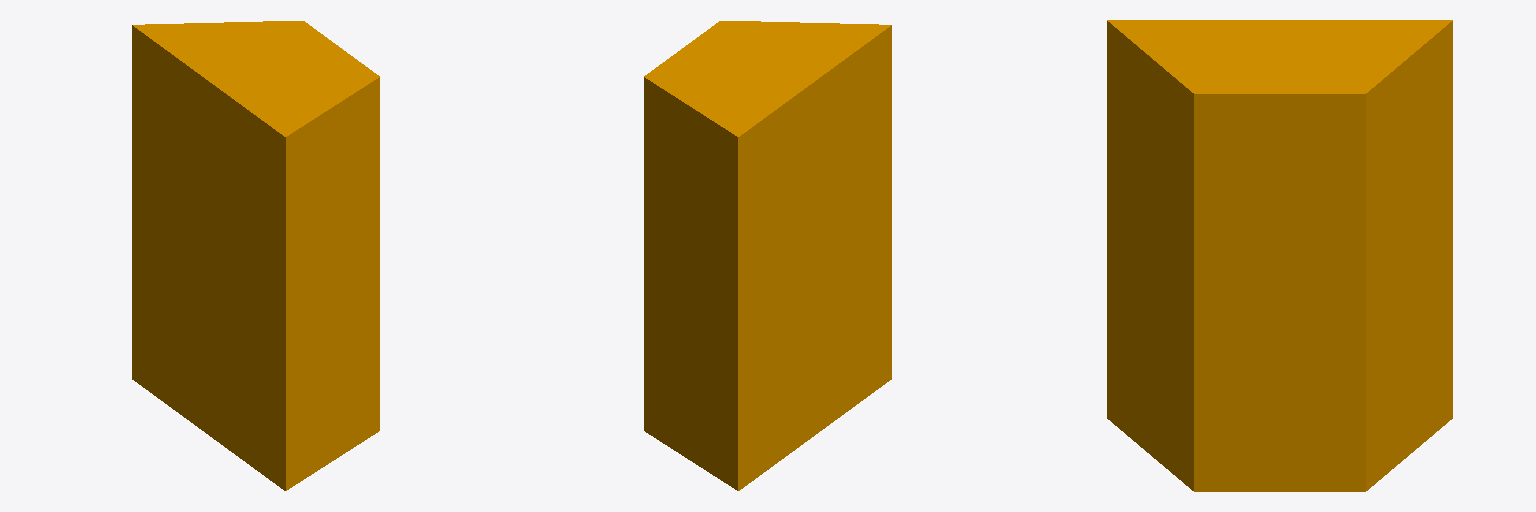
The robot description file, URDF, robot "trapez_peg":
<?xml version="1.0"?>
<robot name="trapez_peg">
    <link name="trapez_peg">
        <visual>
            <!--origin xyz="0 0 0.01905" rpy="0 1.57079632679 0"-->
            <geometry>
                <mesh filename="../mesh/factory_insertion/trapez_peg.obj"/>
            </geometry>
        </visual>
        <collision>
            <!--origin xyz="0 0 0.01905" rpy="0 1.57079632679 0"-->
            <geometry>
                <mesh filename="../mesh/factory_insertion/trapez_peg.obj"/>
            </geometry>
        </collision>
    </link>
</robot>

--- What the picture shows (computed from the rendered views, not written in the file) ---
The picture shows the robot from 3 angles, left to right: view 1: azimuth 30°, elevation 25°; view 2: azimuth 150°, elevation 25°; view 3: azimuth 270°, elevation 25°; orthographic projection.
Robot: trapez_peg — 1 links, 0 joints (none); root link trapez_peg; default pose: all joints at 0.
Visible links, largest first — view 1: trapez_peg; view 2: trapez_peg; view 3: trapez_peg.
Link boxes in pixels (x1=…): trapez_peg: x1=132, y1=21, x2=379, y2=490; trapez_peg: x1=644, y1=21, x2=891, y2=490; trapez_peg: x1=1107, y1=20, x2=1452, y2=491.
Size in the robot's own frame: 0.03 by 0.06 by 0.0762 metres.
Meshes: 1 distinct files referenced, 1 mesh visuals loaded (1 OBJ).
